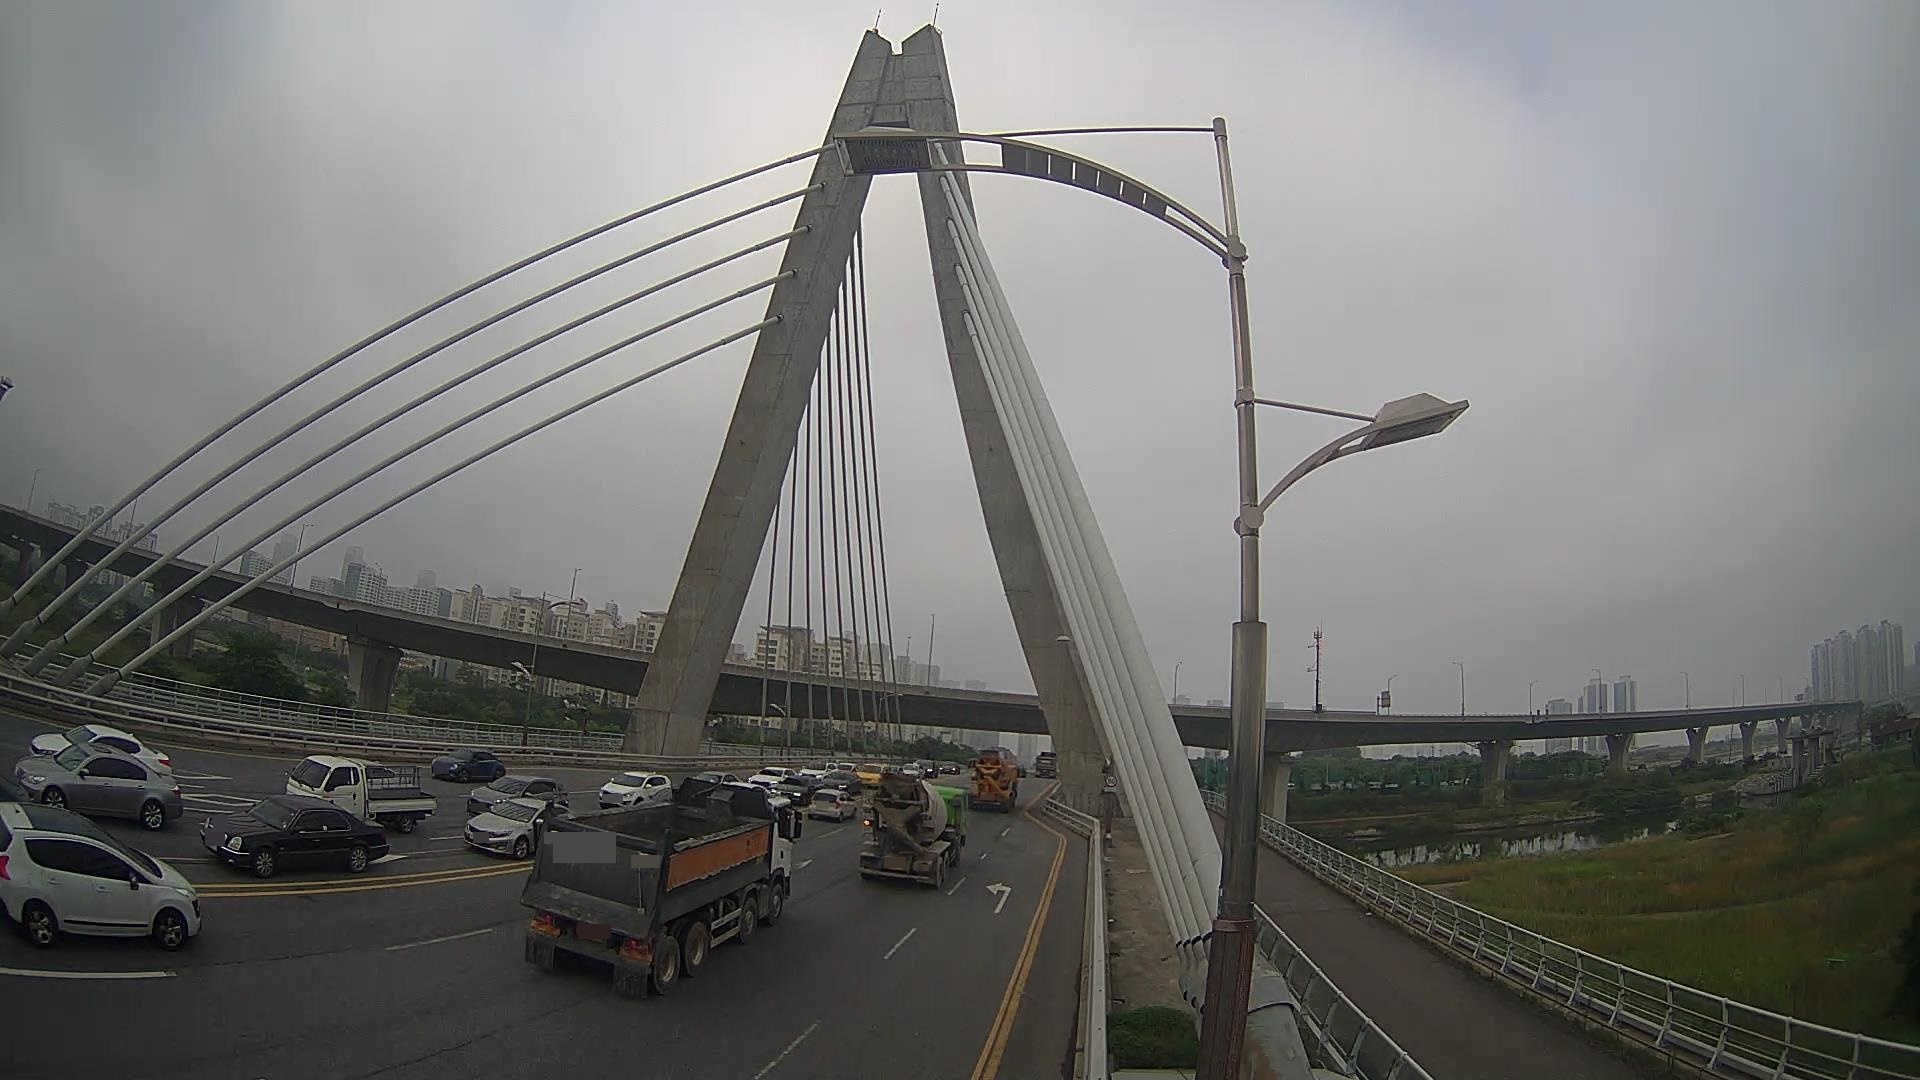정상차량: (521, 777, 803, 998)
